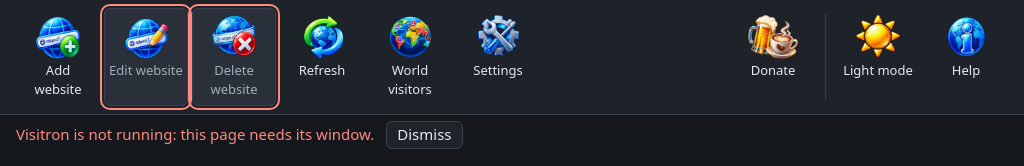
Scenario: the shell › says the window is missing when there is no facade; Dismiss clears it
Click the button "Dismiss" at (424, 135), box x1=386 y1=121 x2=463 y2=149
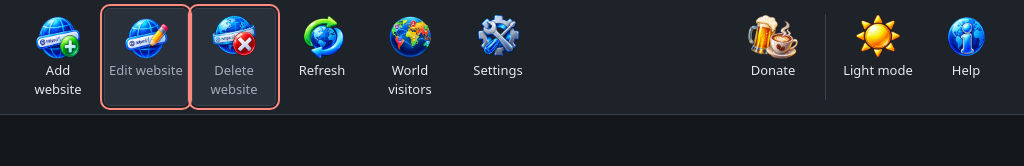
Result: the text "Visitron is not running: this page needs its window." is gone
